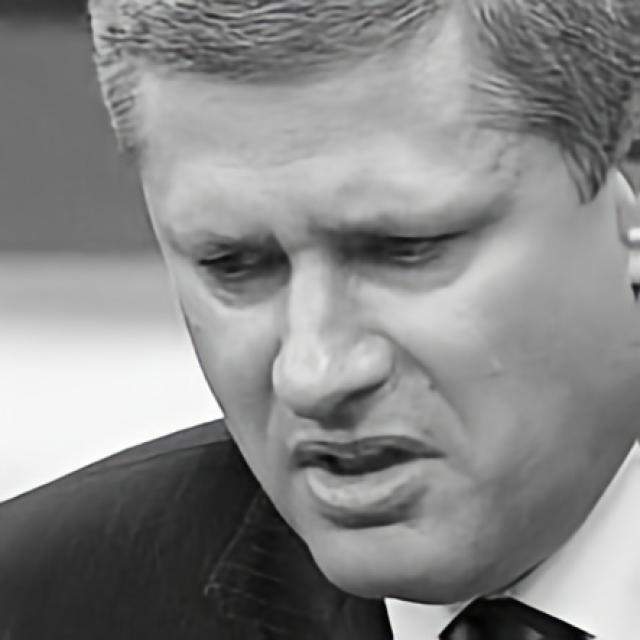disgust: (88, 0, 610, 606)
